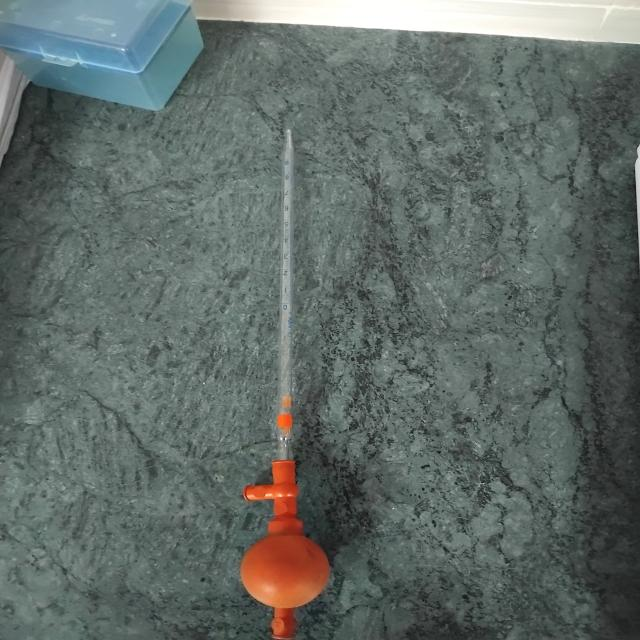Volumetric_Pipet: (224, 108, 352, 640)
